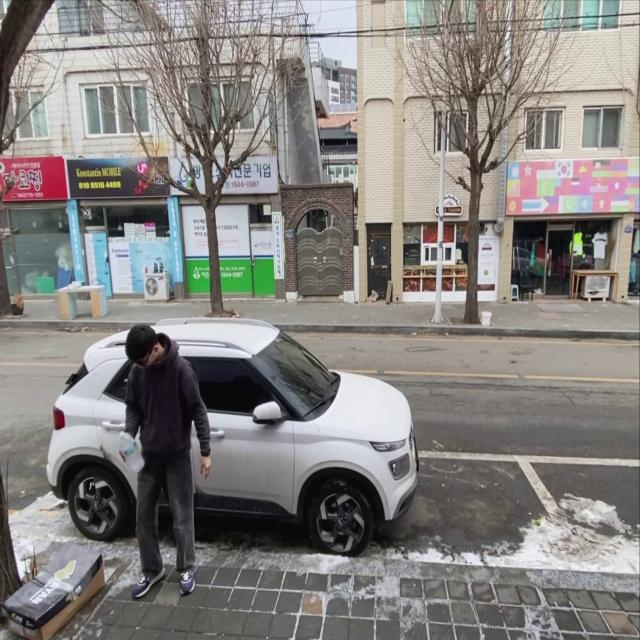bare_hand: (197, 454, 213, 478)
